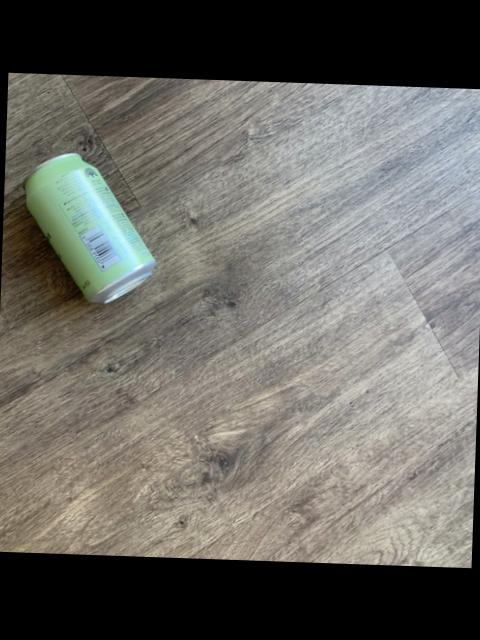metal: (24, 152, 153, 300)
